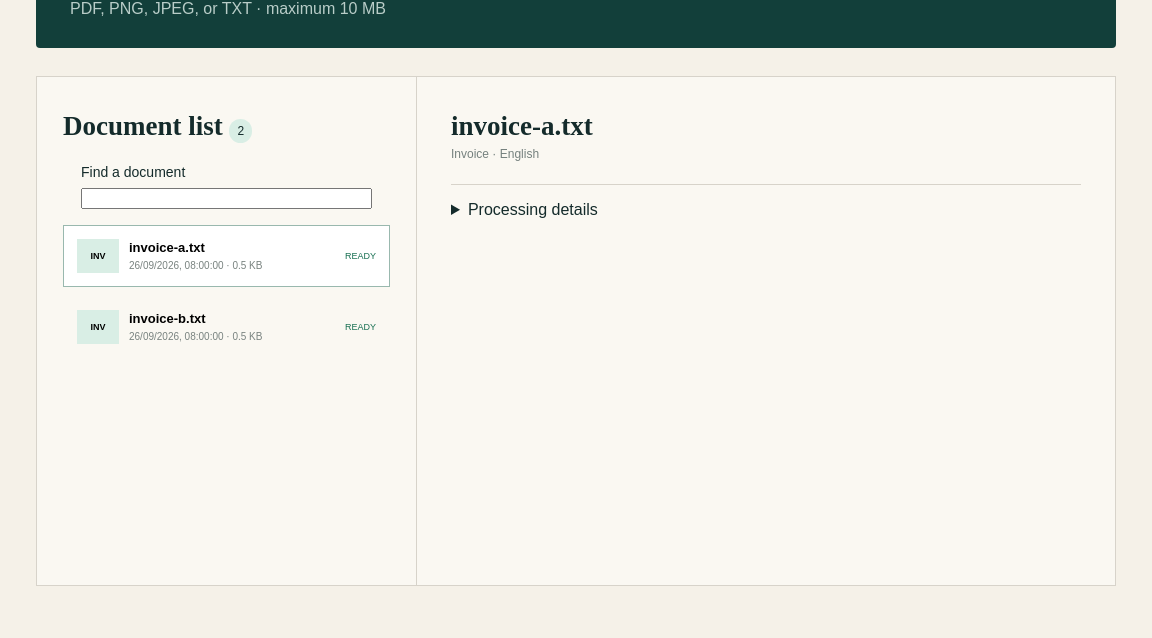
Test: document selection isolates asynchronous review work › ignores the initial document review when it arrives after another selection
(page scrolled)
What coordinates should you click on to do the following:
click the button "INV invoice-b.txt 26/09/2026, 08:00:00 · 0.5 KB Ready"
I would click on:
 (98, 327)
Its box is [63,296,390,358].
(page scrolled)
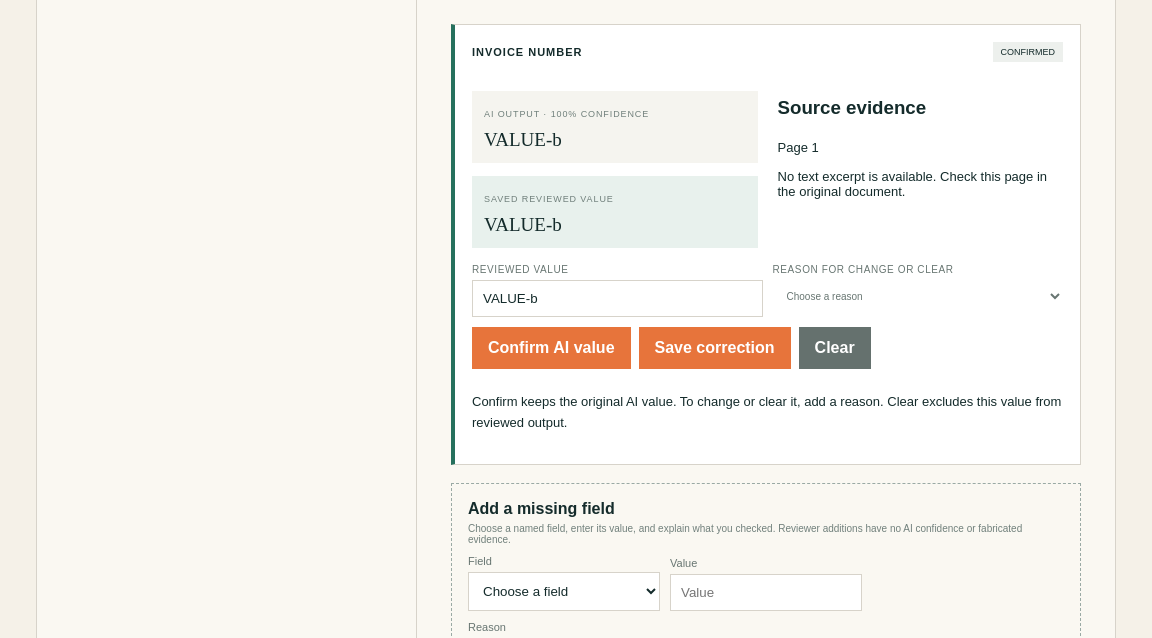
Expected: the field labelled "Reviewed value" holds "VALUE-b", [472,280,762,317]
